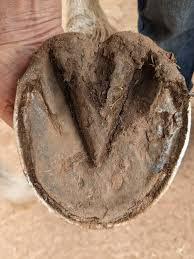horsesole: (12, 46, 191, 232)
